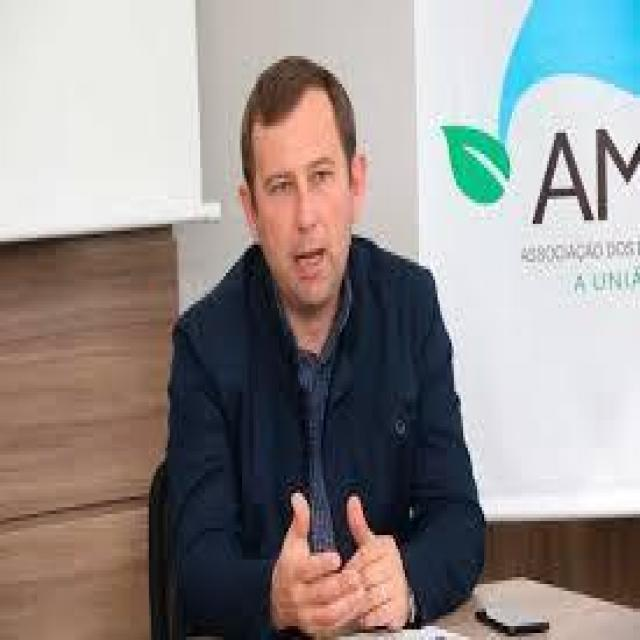person: (142, 18, 496, 598)
